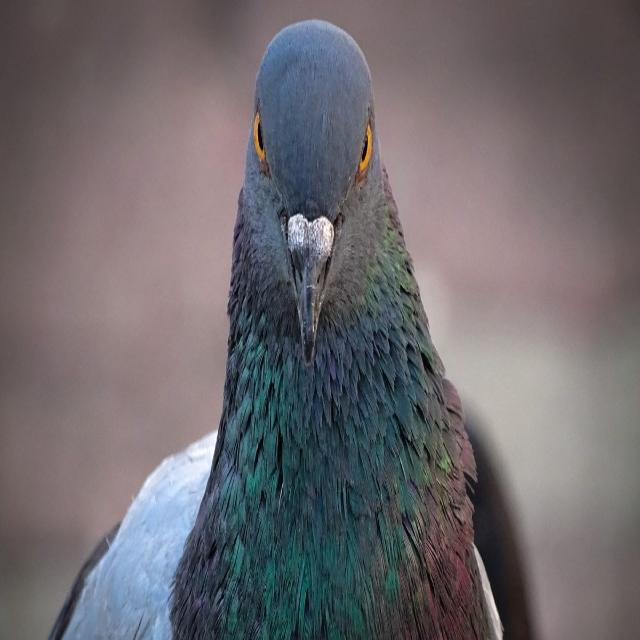Pigeon: (47, 19, 544, 637)
